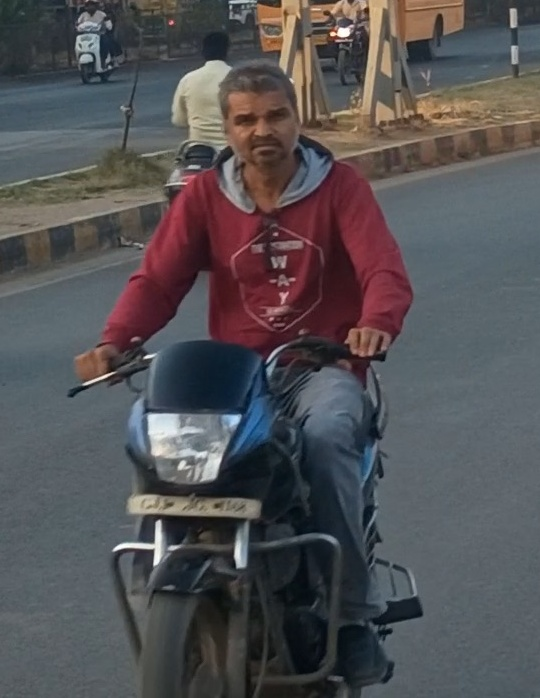BikeWithRider: (61, 54, 433, 698), (322, 0, 379, 92), (62, 0, 128, 79)
NoHelmet: (200, 54, 316, 173)
